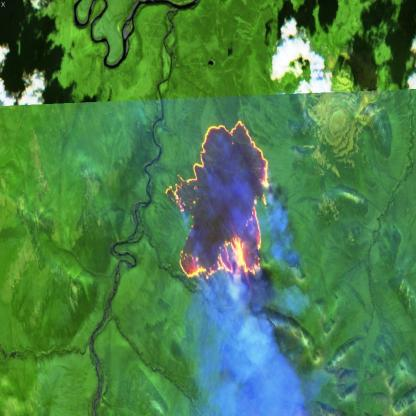fire: (163, 116, 274, 290)
